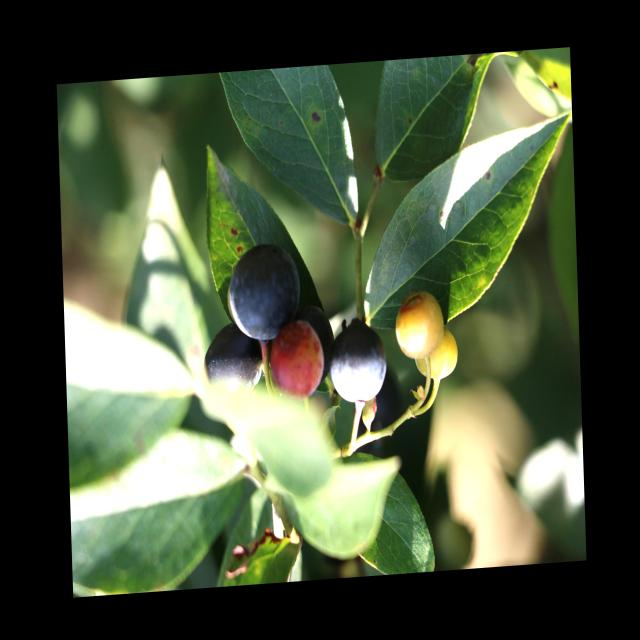blueberry: (225, 238, 304, 344), (328, 316, 390, 409), (202, 319, 266, 405)
blueberry-halfripe: (268, 322, 324, 403)
blueberry-unripe: (394, 290, 444, 361), (412, 332, 461, 384)
